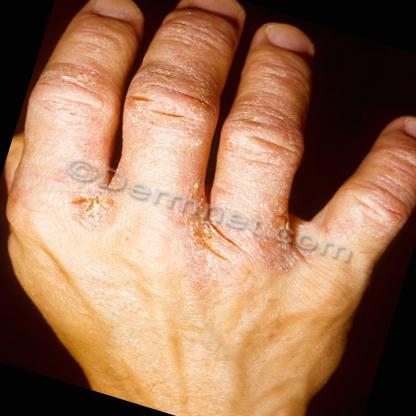Eczema: (128, 207, 318, 336), (16, 165, 145, 270), (118, 102, 228, 202), (136, 32, 232, 116), (22, 88, 116, 170), (203, 152, 295, 228), (221, 85, 302, 167), (239, 44, 327, 110), (48, 24, 124, 98), (308, 195, 386, 255), (354, 148, 416, 213), (373, 127, 416, 174)
